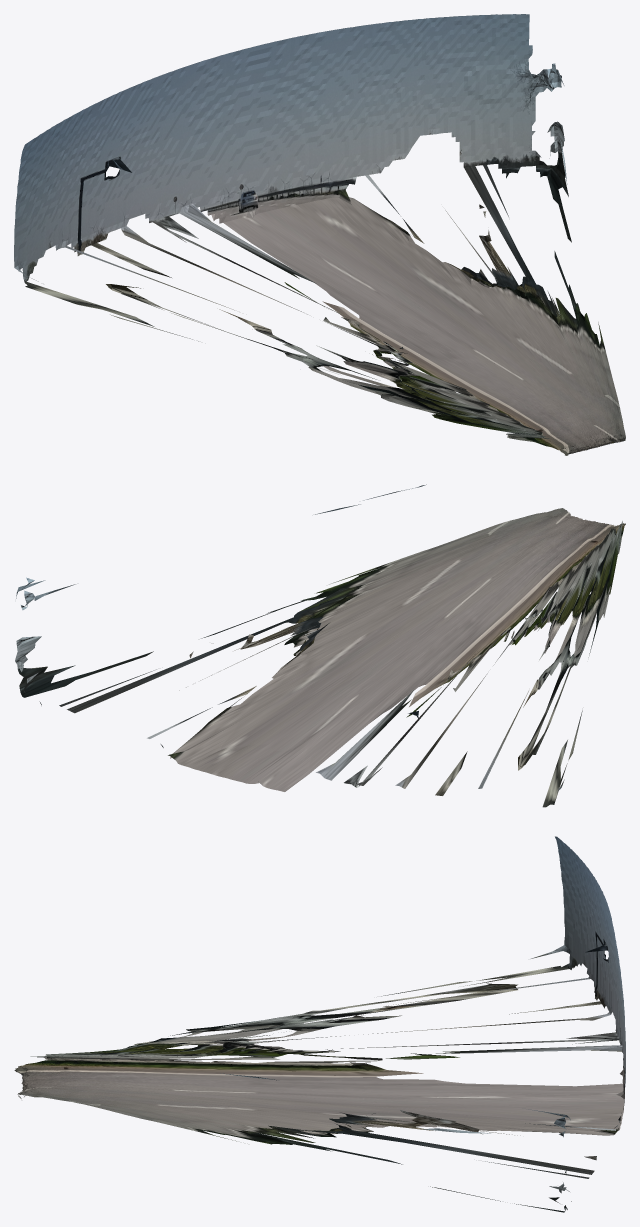
The picture shows the model from 3 angles, top to bottom: view 1: azimuth 30°, elevation 25°; view 2: azimuth 150°, elevation 25°; view 3: azimuth 270°, elevation 25°; orthographic projection. The views are drawn at different scales.
Parts seen in each view (by area): view 1: defaultobject; view 2: defaultobject; view 3: defaultobject.
Part boxes in pixels (<box>): defaultobject: <box>14,14,625,455</box>; defaultobject: <box>15,484,625,807</box>; defaultobject: <box>14,836,625,1212</box>.
Size of the model in its own units: 41.05 by 12.64 by 44.75.
Materials: 1 (1 with a texture image).
